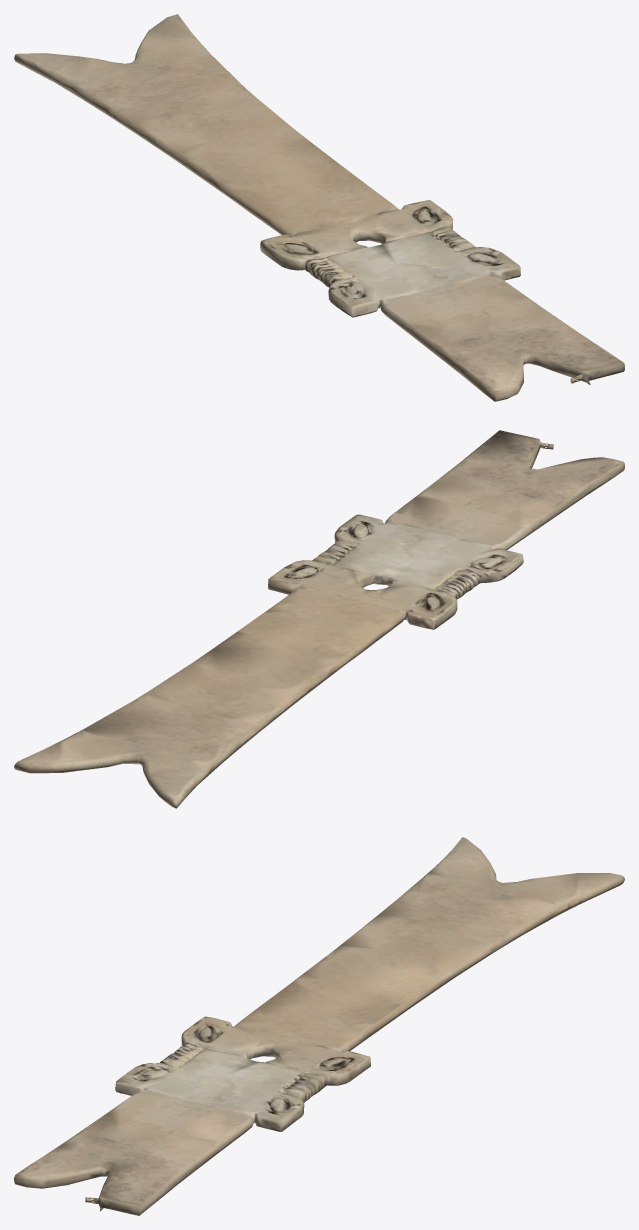
Rendered from sanxingdui-zhang-overview.glb.
3 views of the same model, one above another, from view 1: azimuth 30°, elevation 25°; view 2: azimuth 150°, elevation 25°; view 3: azimuth 330°, elevation 25° (orthographic).
Parts seen in each view (by area): view 1: node_0; view 2: node_0; view 3: node_0.
Boxes of the visible parts, left/top/right/bottom form: node_0: left=14, top=14, right=624, bottom=401; node_0: left=14, top=430, right=624, bottom=808; node_0: left=14, top=837, right=624, bottom=1215.
Size of the model in its own units: 0.2489 by 0.0197 by 1.17.
Materials: 1 (1 with a texture image).
